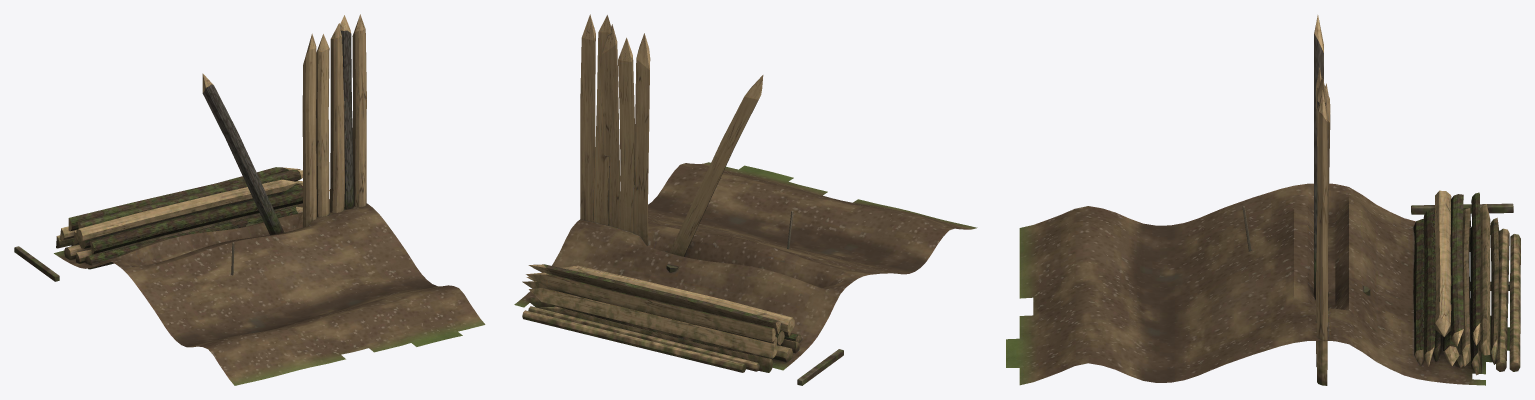
The model's file is palisade_build1.glb.
The picture shows the model from 3 angles, left to right: view 1: azimuth 30°, elevation 25°; view 2: azimuth 150°, elevation 25°; view 3: azimuth 270°, elevation 25°; orthographic projection. The views are drawn at different scales.
Parts seen in each view (by area): view 1: palisade_build1_LOD0; view 2: palisade_build1_LOD0; view 3: palisade_build1_LOD0.
Part boxes in pixels (x1,y1,x2,y2): palisade_build1_LOD0: (14,14,485,385); palisade_build1_LOD0: (514,14,977,385); palisade_build1_LOD0: (1006,15,1520,385).
Size of what is drawn, in the model's own units: 6.8 by 5.29 by 8.3.
1 material, 1 textured.
